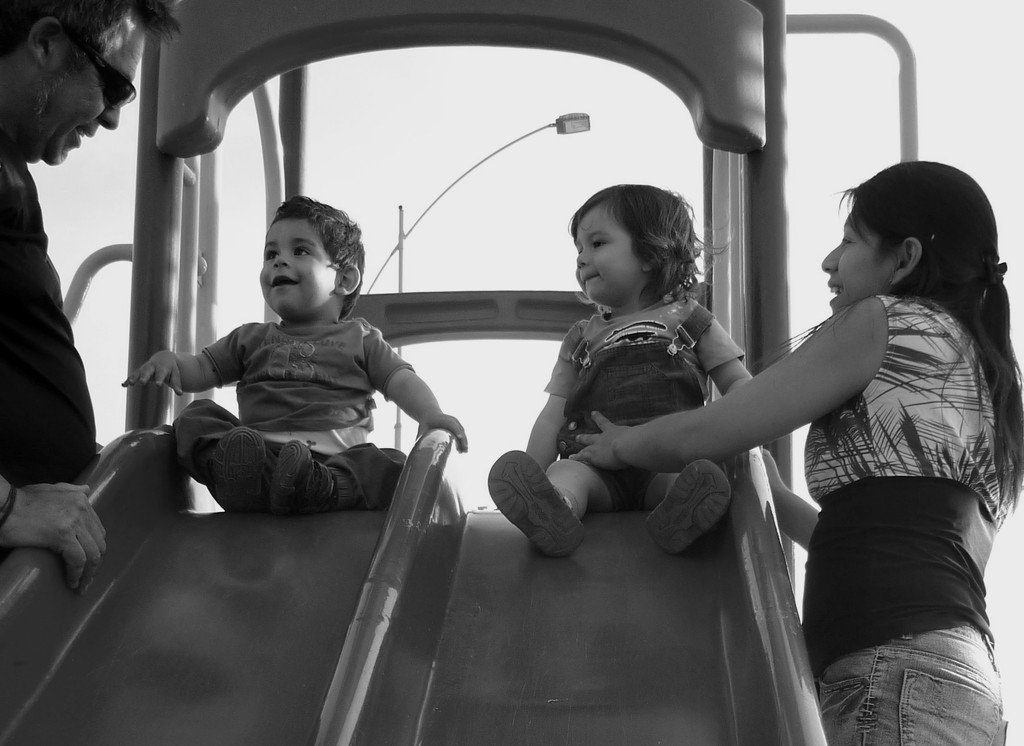Human-face: (49, 22, 148, 168), (253, 210, 335, 321), (822, 200, 890, 310), (576, 200, 639, 308)
